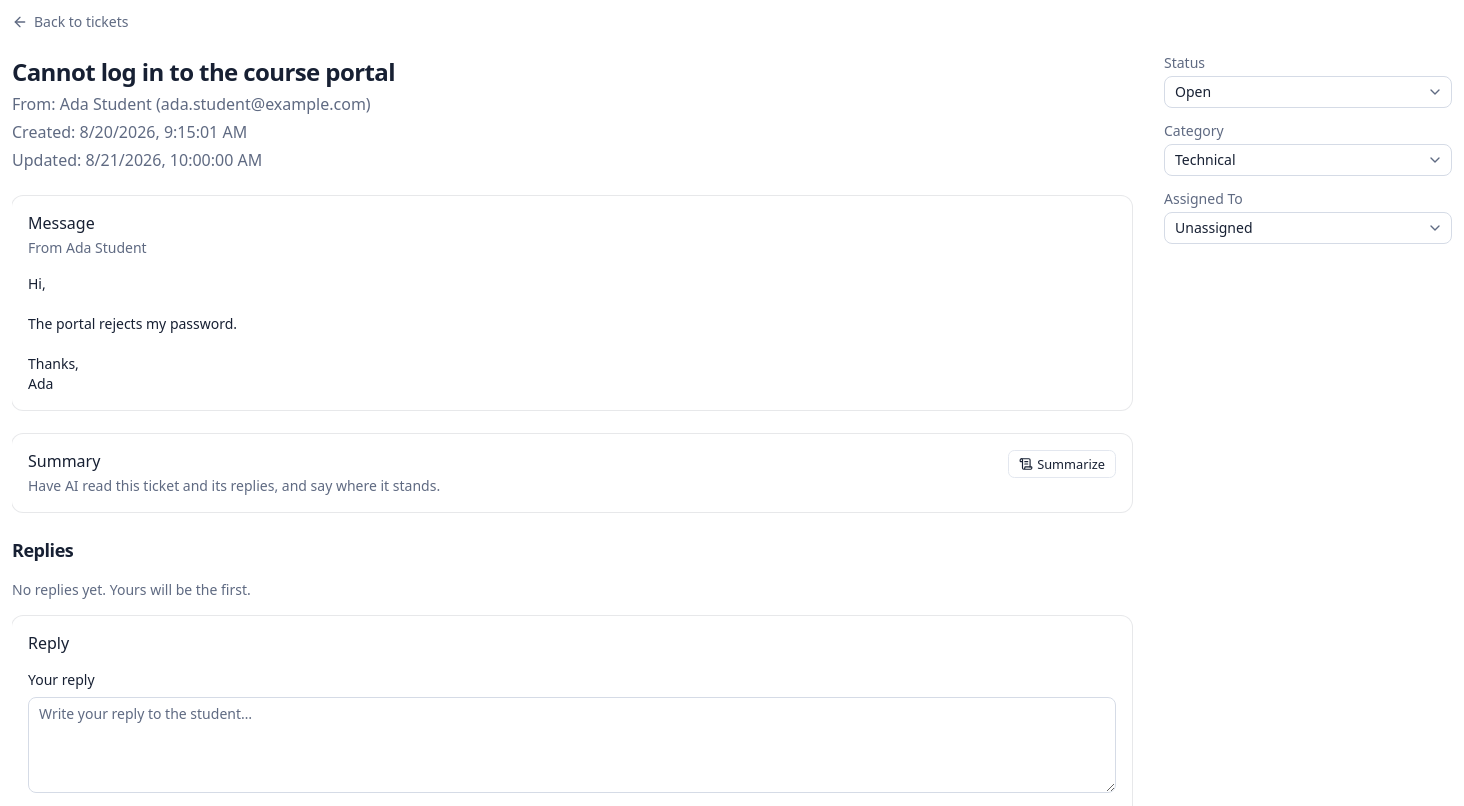
Test case: TicketDetailPage › status › reports a move the server refuses
The image size is (1464, 806).
Check: the heading "Cannot log in to the course portal" is shown, box x1=12 y1=55 x2=395 y2=88
Click the dropdown named "status": coordinates (1193, 92) x1=1164 y1=76 x2=1452 y2=108
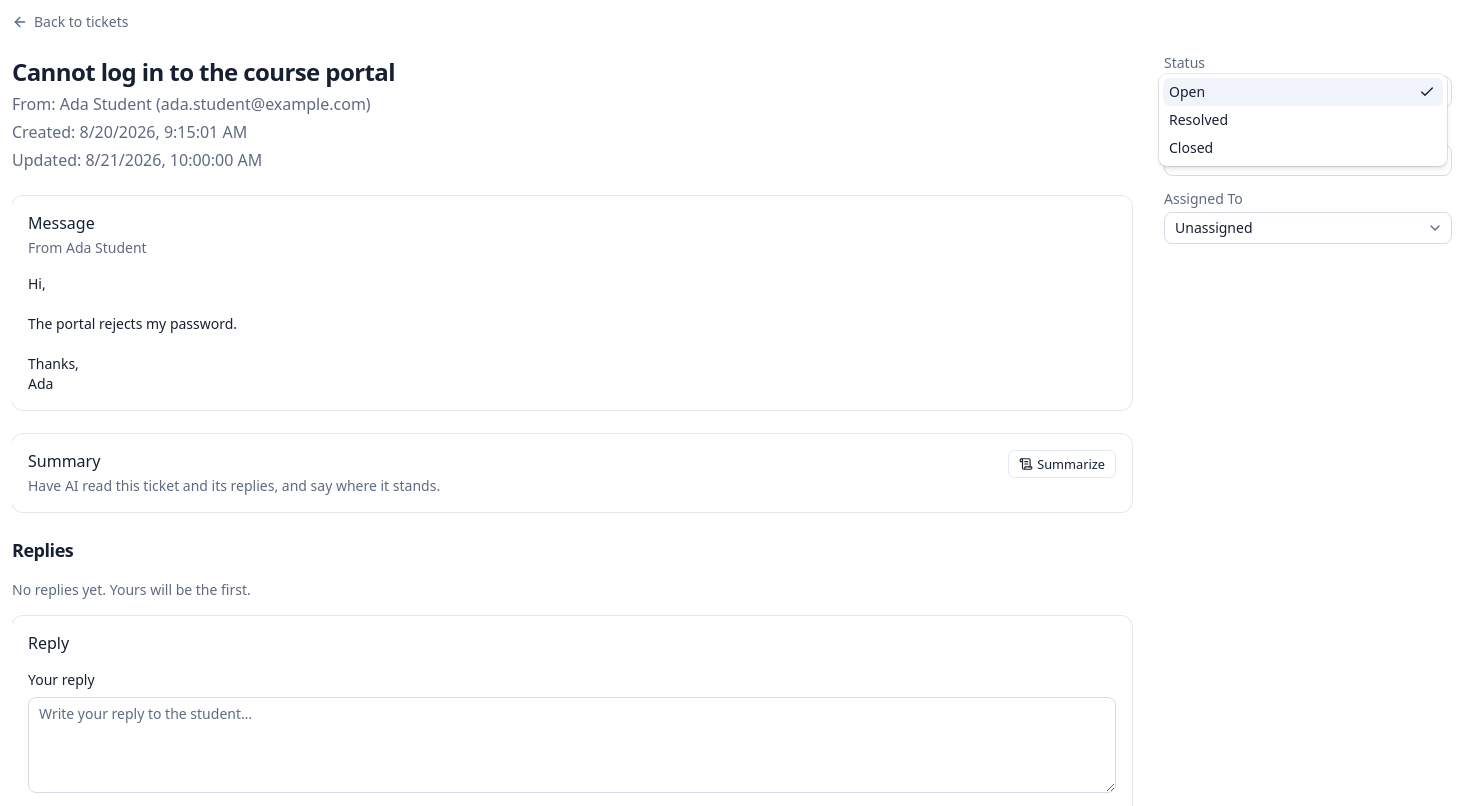
Click the option "Resolved": coordinates (1198, 120) x1=1169 y1=110 x2=1228 y2=129
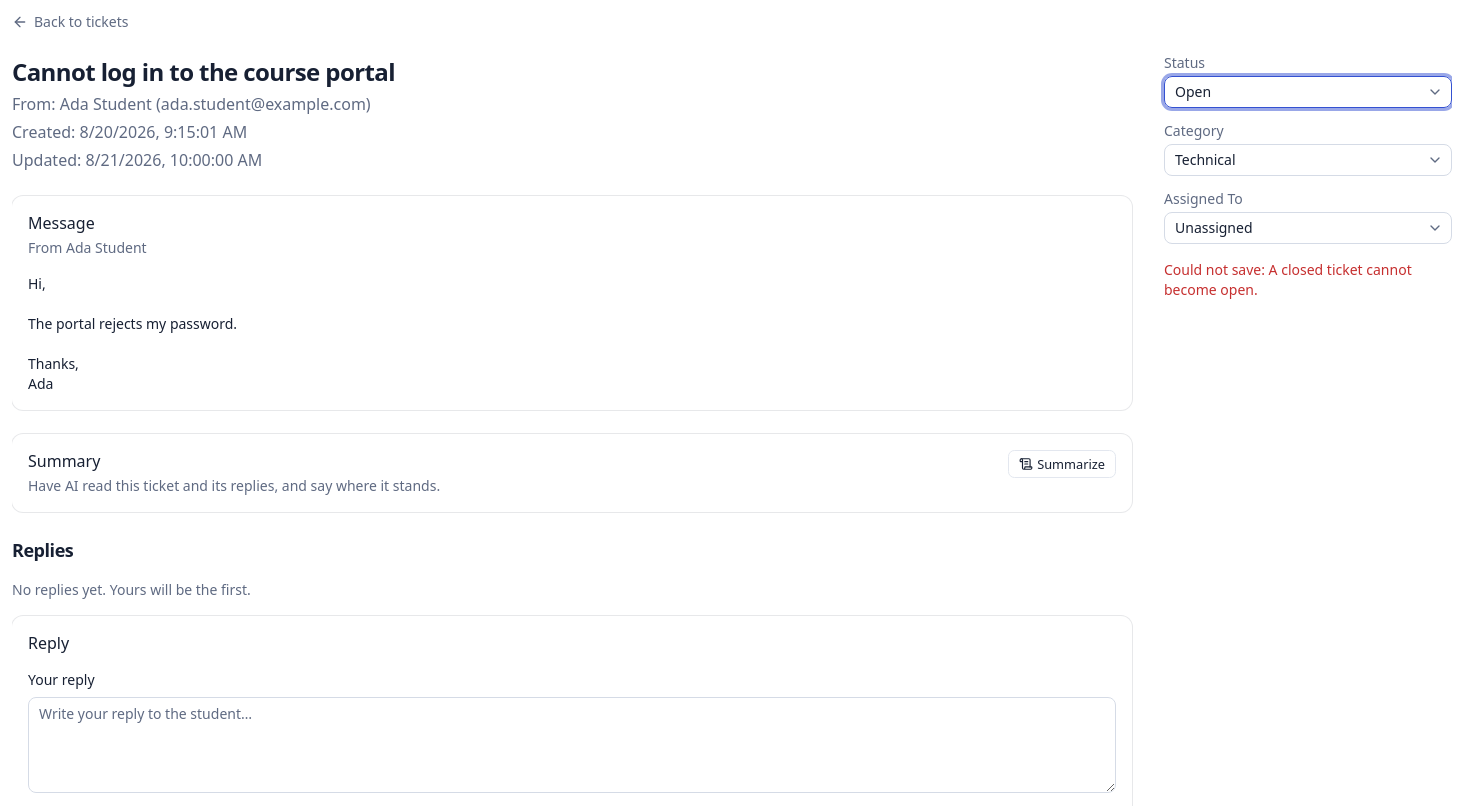
Check: the text "Could not save: A closed ticket cannot become open." is shown, box x1=1164 y1=260 x2=1452 y2=300
